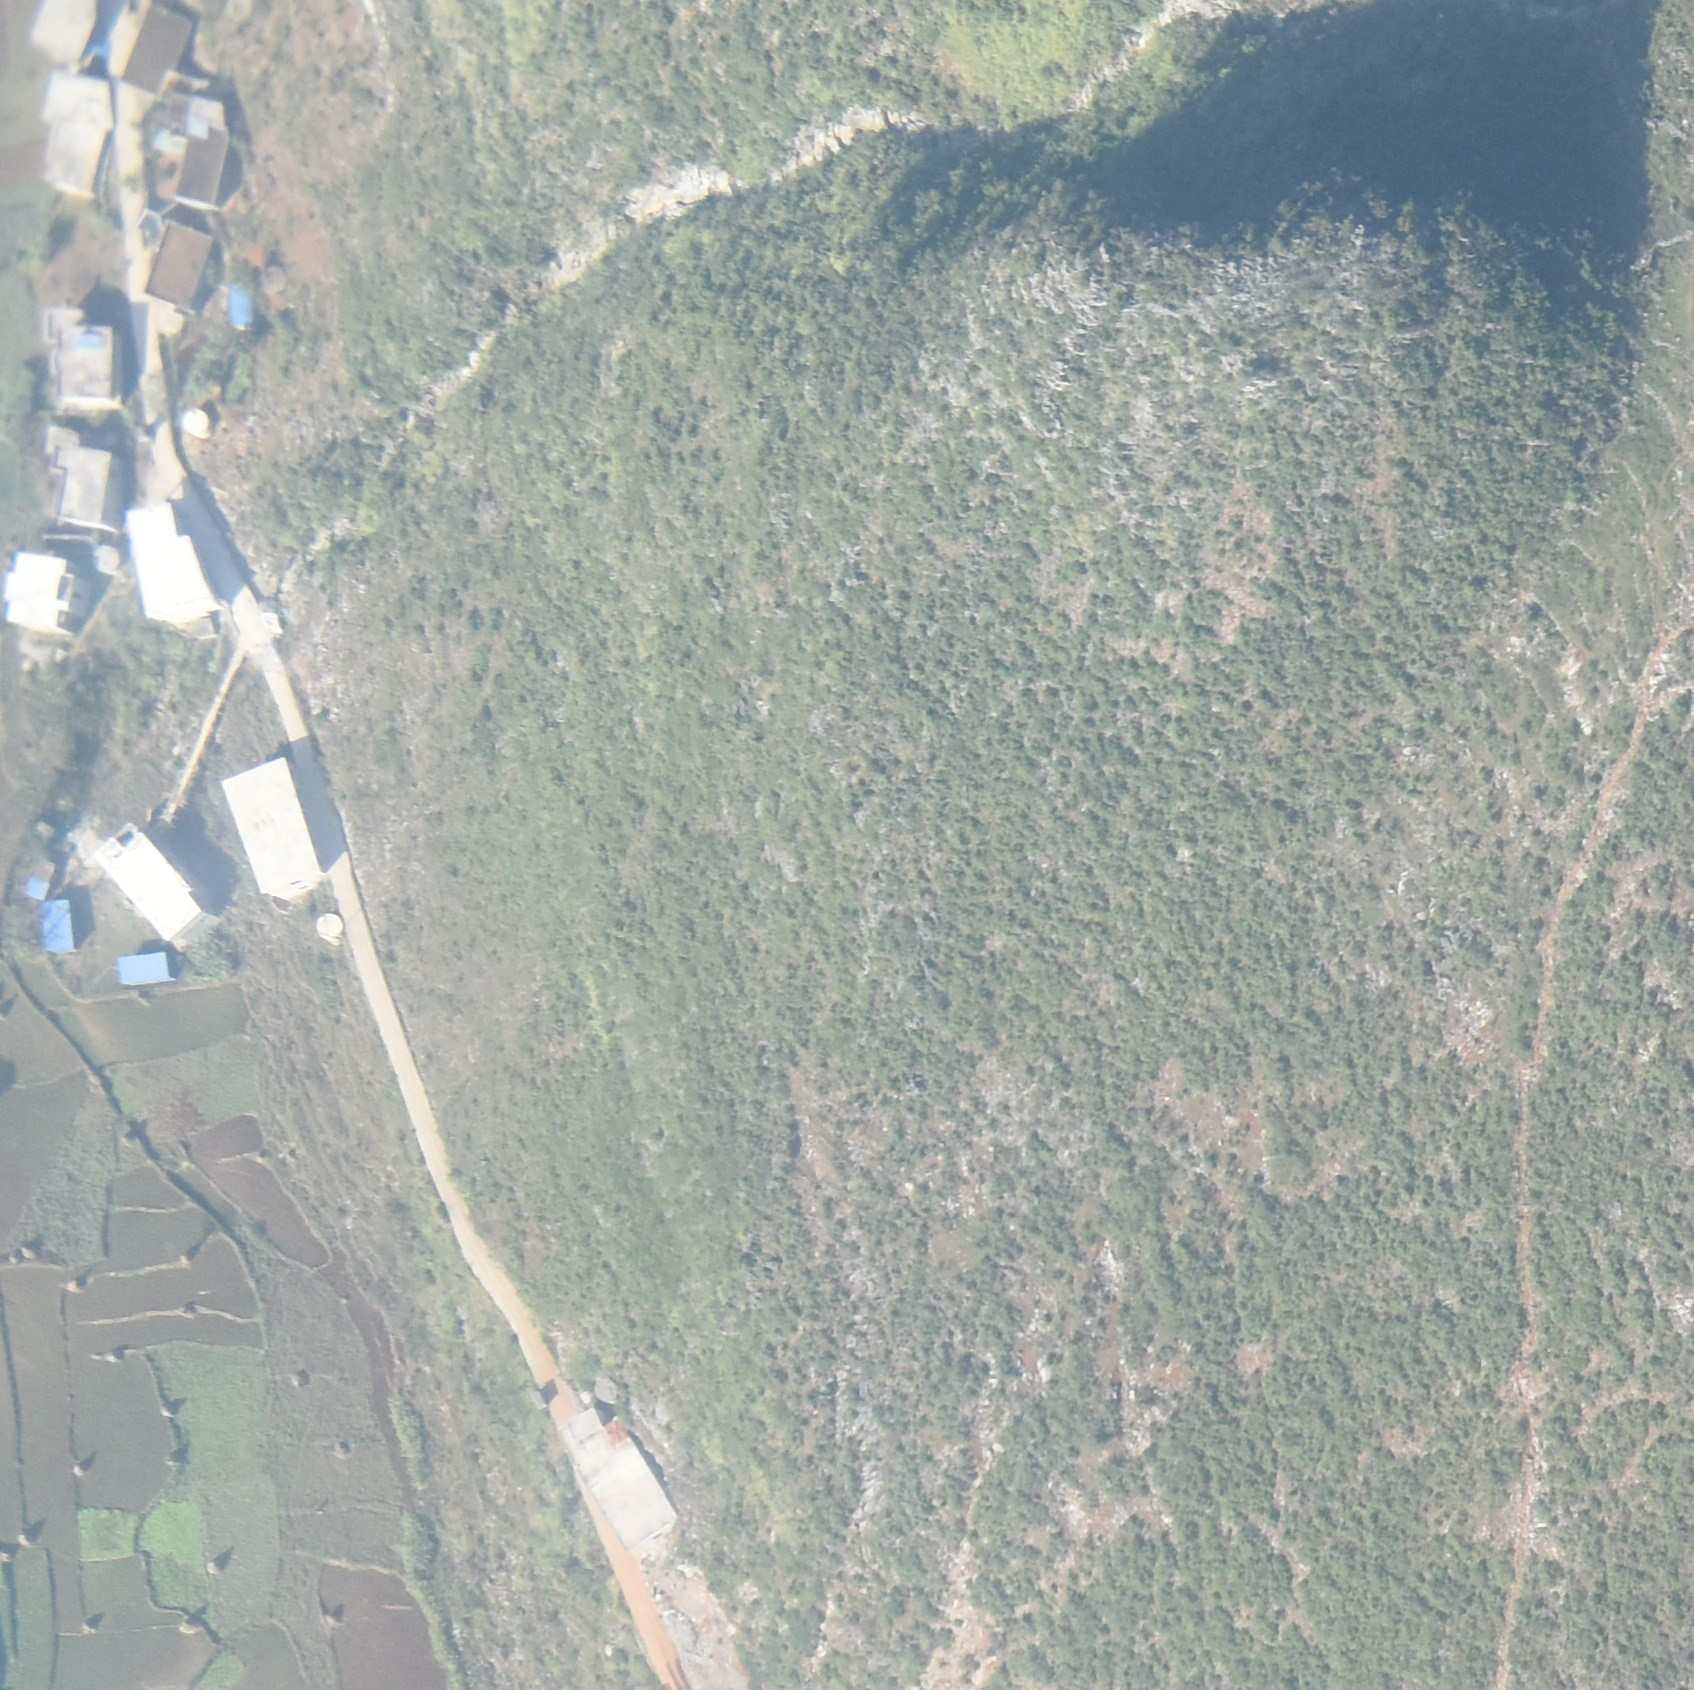building: (555, 1404, 676, 1552), (221, 755, 320, 895), (91, 823, 203, 935), (124, 500, 217, 621), (42, 73, 114, 190), (43, 305, 114, 405), (42, 422, 110, 526), (121, 8, 196, 94), (144, 221, 212, 303), (3, 552, 67, 628), (26, 2, 97, 62), (175, 128, 229, 207)
prefabricated-house: (39, 899, 74, 955), (114, 952, 173, 983), (229, 289, 251, 331), (22, 874, 50, 898)
well: (90, 545, 122, 574), (316, 910, 345, 941), (183, 407, 207, 435)
